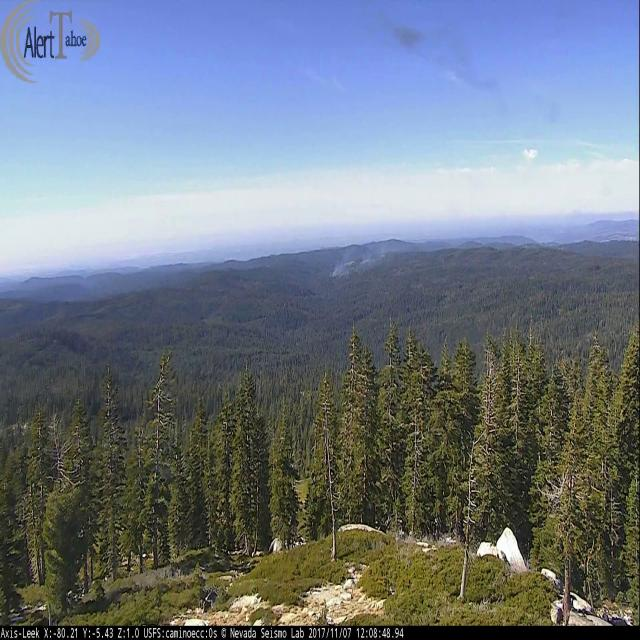smoke: (329, 238, 412, 282)
